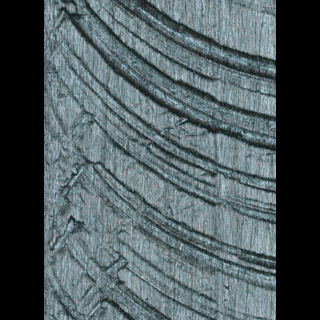d: (44, 2, 273, 320)
